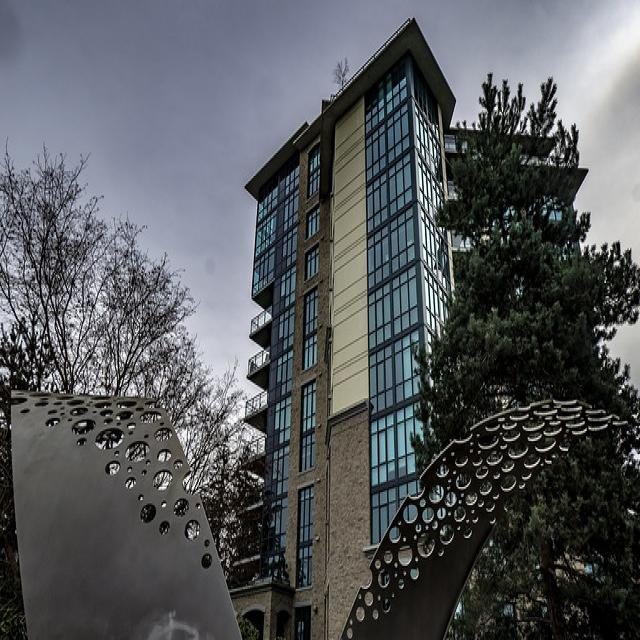Normal_building: (236, 13, 468, 640)
